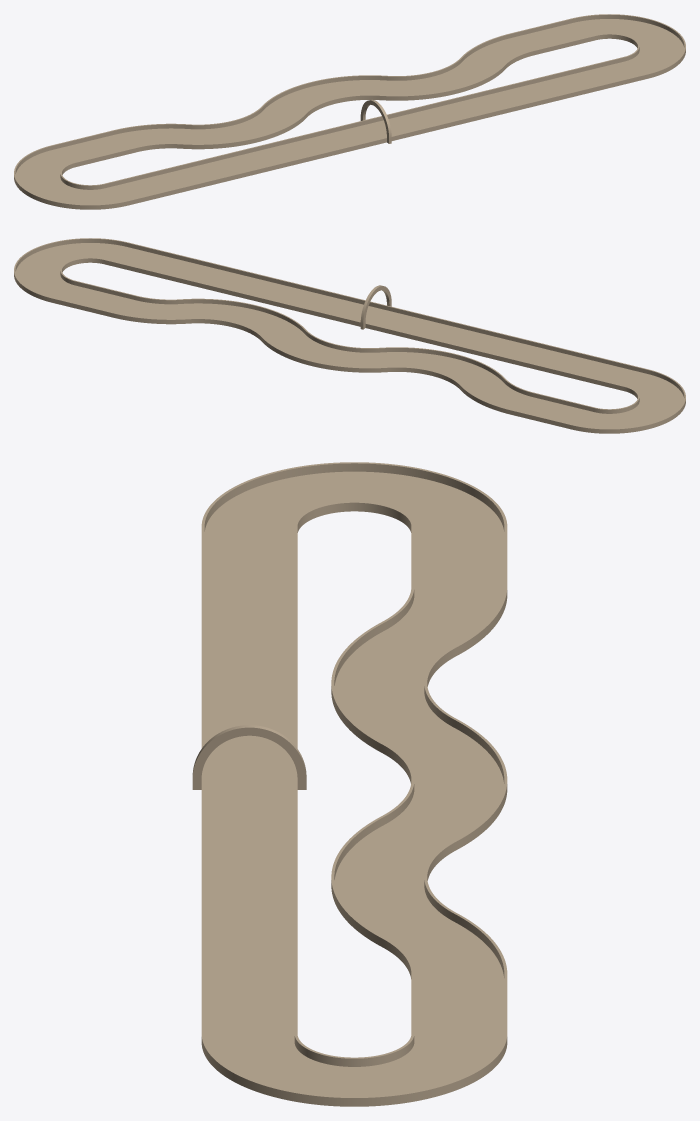
File: track.dae
The picture shows the model from 3 angles, top to bottom: view 1: azimuth 30°, elevation 25°; view 2: azimuth 150°, elevation 25°; view 3: azimuth 270°, elevation 25°; orthographic projection. The views are drawn at different scales.
Visible parts, largest first — view 1: Untitled; view 2: Untitled; view 3: Untitled.
Part boxes in pixels (x1,y1,x2,y2): Untitled: (14,14,685,209); Untitled: (14,238,685,433); Untitled: (192,462,507,1106).
Bounding box in the file's own units: 25.1 × 5.25 × 1.15.
